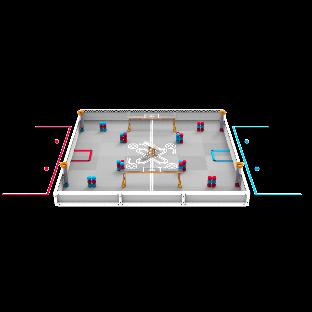Autolimit: (150, 119, 153, 142), (150, 173, 153, 191), (150, 158, 153, 168)
Goal: (122, 167, 182, 188), (127, 113, 176, 131)
Loader: (235, 161, 244, 186), (60, 161, 68, 186), (77, 109, 84, 130), (219, 109, 226, 130)
Low_goal: (140, 148, 162, 160)
Med_goal: (143, 140, 162, 158)
Parking - B: (211, 149, 233, 161)
Parking-R: (71, 149, 92, 161)
V5_BLUE: (117, 159, 124, 166), (176, 133, 180, 143), (178, 164, 186, 169), (87, 183, 96, 187), (117, 167, 124, 172), (120, 131, 126, 136), (87, 176, 96, 179), (207, 180, 216, 183), (197, 124, 204, 127), (100, 127, 106, 130), (100, 121, 106, 124), (63, 169, 67, 173), (235, 179, 239, 183), (236, 172, 240, 176), (255, 166, 259, 170), (65, 182, 68, 186), (64, 176, 68, 179), (79, 116, 83, 119), (245, 139, 248, 143), (180, 136, 183, 139), (120, 139, 123, 142), (80, 122, 83, 125), (80, 128, 84, 130), (237, 167, 241, 169), (179, 160, 182, 162), (220, 125, 223, 127), (220, 119, 223, 121), (221, 114, 224, 116)
V5_RED: (87, 179, 96, 183), (123, 133, 127, 142), (207, 183, 216, 187), (117, 163, 124, 168), (179, 160, 186, 165), (208, 176, 216, 180), (197, 121, 204, 124), (44, 166, 49, 170), (54, 139, 59, 143), (63, 172, 67, 176), (235, 176, 240, 179), (236, 169, 241, 172), (99, 125, 106, 127), (197, 128, 204, 130), (64, 179, 68, 182), (80, 124, 83, 128), (220, 115, 223, 119), (235, 183, 239, 186), (62, 167, 67, 169), (121, 159, 124, 162), (183, 167, 186, 170), (180, 133, 183, 136), (180, 139, 183, 142), (80, 119, 83, 121), (219, 128, 222, 130), (220, 122, 223, 124), (176, 131, 179, 132), (79, 114, 82, 115)
blueinloader: (63, 169, 67, 173), (235, 179, 239, 183), (236, 172, 240, 176), (65, 182, 68, 186), (64, 176, 68, 179), (79, 116, 83, 119), (80, 122, 83, 125), (80, 128, 84, 130), (237, 167, 241, 169), (220, 125, 223, 127), (220, 119, 223, 121), (221, 114, 224, 116)
pieces: (116, 159, 125, 172), (207, 175, 216, 187), (87, 175, 96, 187), (120, 131, 127, 143), (176, 131, 183, 143), (99, 121, 107, 131), (178, 160, 186, 170), (197, 121, 204, 131)
redloader: (63, 172, 67, 176), (235, 176, 240, 179), (64, 179, 68, 182), (80, 124, 83, 128), (220, 115, 223, 119), (235, 183, 239, 186), (236, 169, 240, 172), (62, 167, 67, 169), (219, 128, 223, 130), (80, 119, 83, 121), (220, 122, 223, 124), (79, 114, 82, 115)
